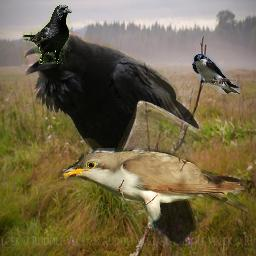Crow: (22, 32, 200, 250), (23, 4, 72, 64)
Cuckoo: (58, 148, 248, 238)
Swallow: (192, 54, 240, 94)
